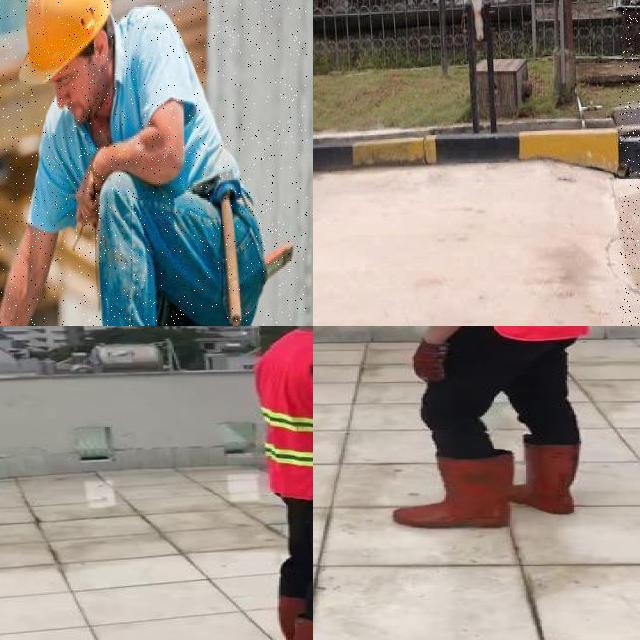No_Ear-Protection: (92, 27, 114, 69)
boots: (391, 455, 515, 527), (519, 444, 579, 514), (264, 590, 313, 640)
face_mask: (382, 326, 594, 532)
hand_glove: (412, 340, 448, 384)
head_helmet: (6, 0, 122, 92)
person: (0, 0, 307, 326), (238, 326, 313, 640)
vest: (256, 329, 313, 498)
